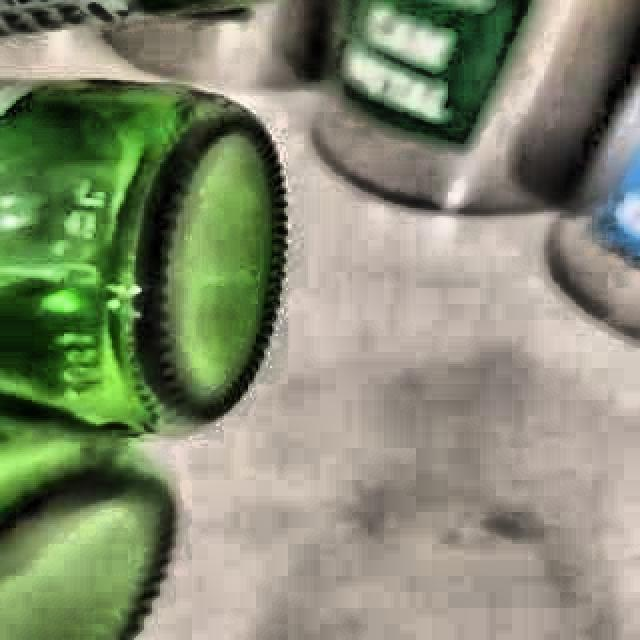glass: (0, 79, 285, 640)
